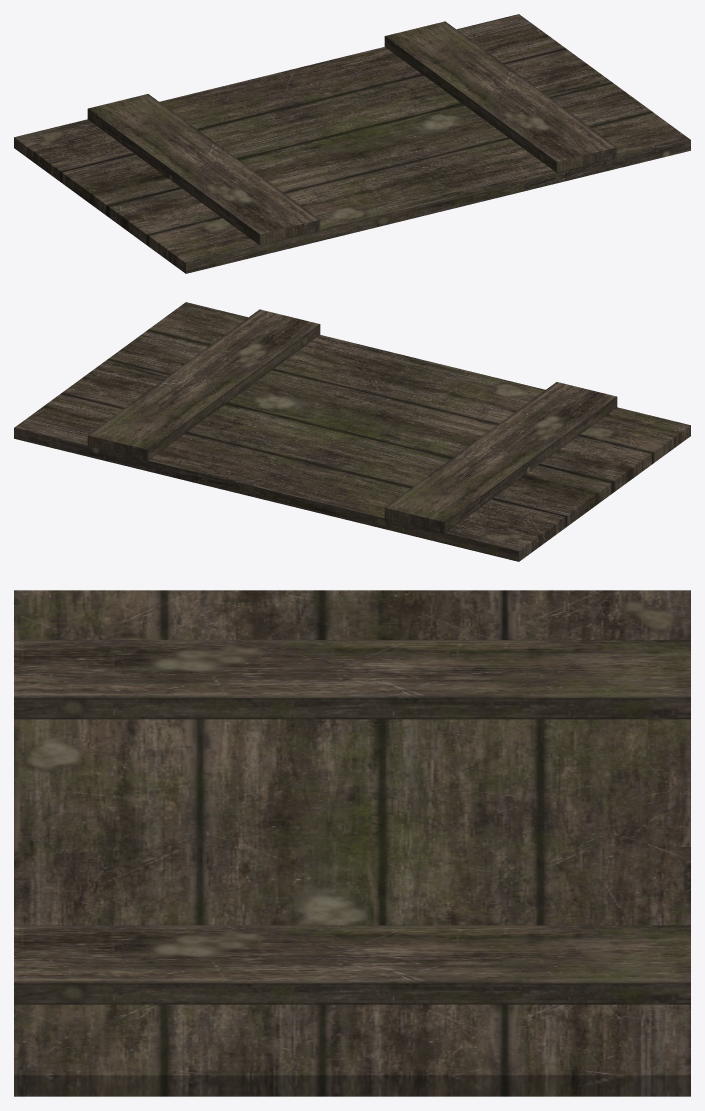
File: Crate01_top.fbx
3 renders of one model, top to bottom at view 1: azimuth 30°, elevation 25°; view 2: azimuth 150°, elevation 25°; view 3: azimuth 270°, elevation 25°, orthographic. The views are drawn at different scales.
Visible parts, largest first — view 1: Crate01_top; view 2: Crate01_top; view 3: Crate01_top.
Boxes of the visible parts, x1,y1,x2,y2 form: Crate01_top: [14, 14, 690, 273]; Crate01_top: [14, 302, 690, 561]; Crate01_top: [14, 590, 690, 1096].
Bounding box in the file's own units: 119 × 4.84 × 70.24.
